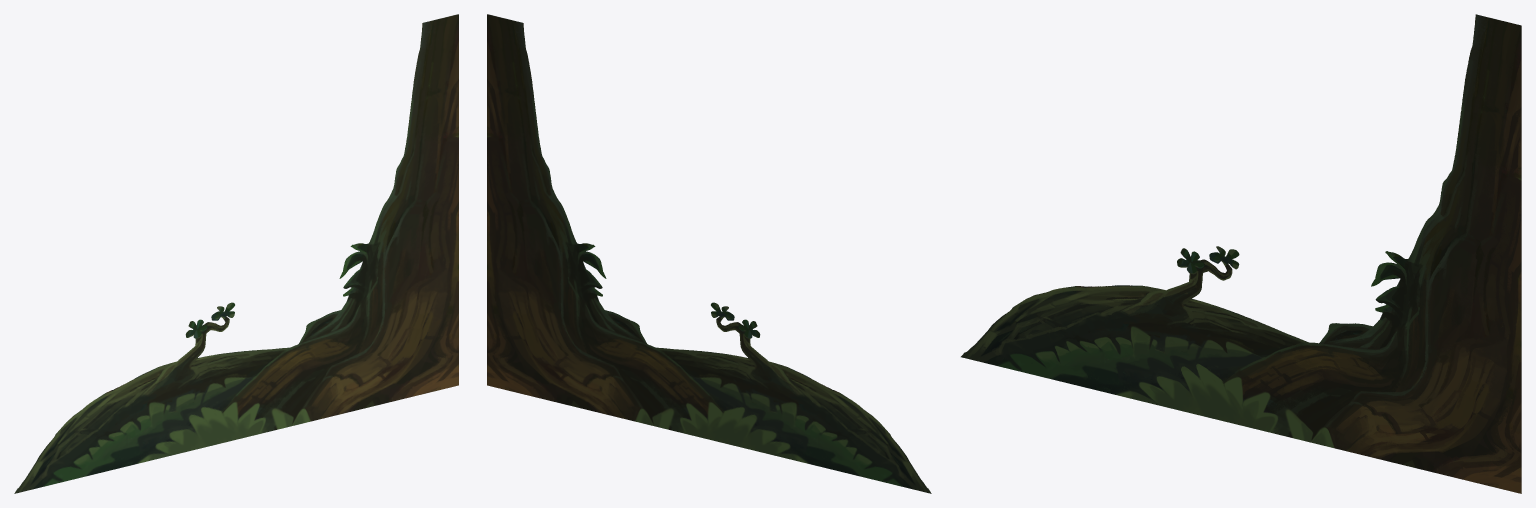
Rendered from Jungle_front_02.fbx.
3 views of the same model, side by side, from view 1: azimuth 30°, elevation 25°; view 2: azimuth 150°, elevation 25°; view 3: azimuth 330°, elevation 25° (orthographic). The views are drawn at different scales.
Visible parts, largest first — view 1: Jungle_front_02; view 2: Jungle_front_02; view 3: Jungle_front_02.
Boxes of the visible parts, x1,y1,x2,y2 form: Jungle_front_02: (14,14,458,493); Jungle_front_02: (487,14,931,493); Jungle_front_02: (961,14,1521,493).
Size of the model in its own units: 1000 by 798 by 0.00013.
